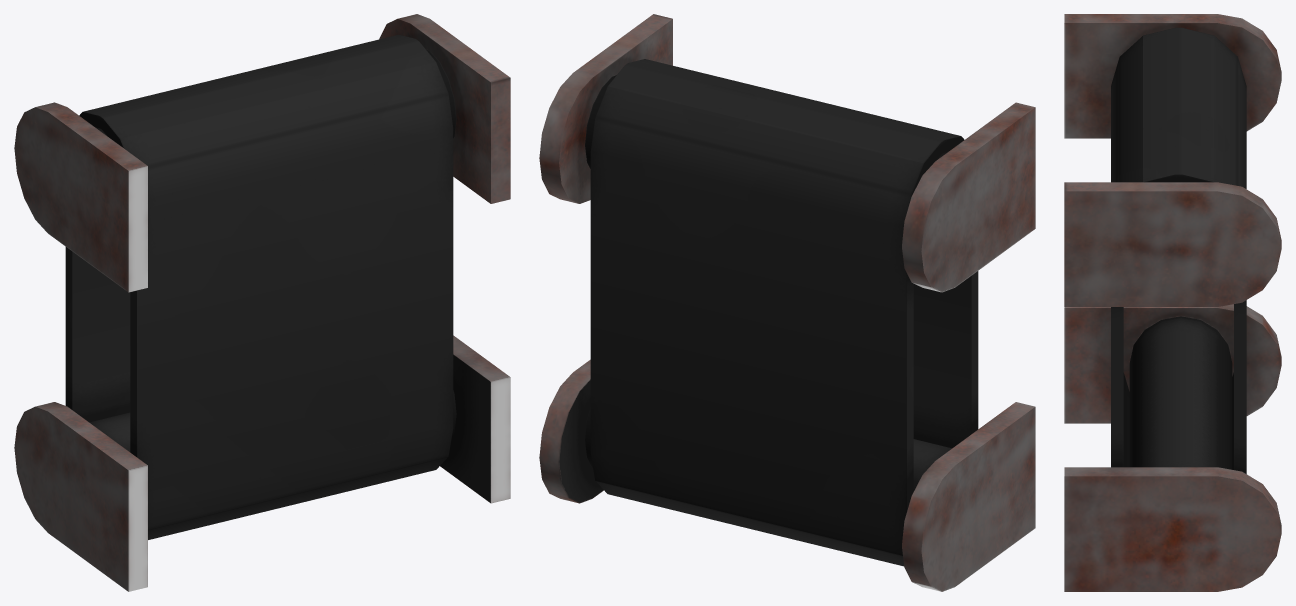
Rendered from _road2.001.fbx.
3 renders of one model, left to right at view 1: azimuth 30°, elevation 25°; view 2: azimuth 150°, elevation 25°; view 3: azimuth 270°, elevation 25°, orthographic. The views are drawn at different scales.
Parts seen in each view (by area): view 1: Road2.006; view 2: Road2.006; view 3: Road2.006.
Boxes of the visible parts, x1=… form: Road2.006: x1=14, y1=14, x2=510, y2=591; Road2.006: x1=539, y1=14, x2=1035, y2=591; Road2.006: x1=1064, y1=14, x2=1281, y2=591.
Bounding box in the file's own units: 9424 × 10000 × 4876.
